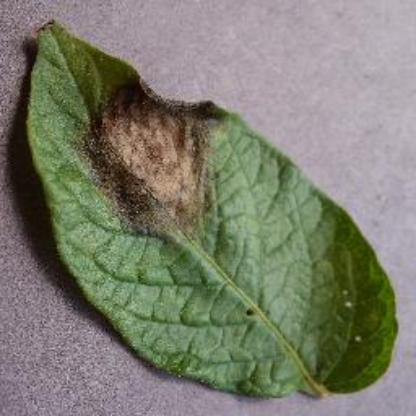Late-Blight: (20, 14, 402, 402)
